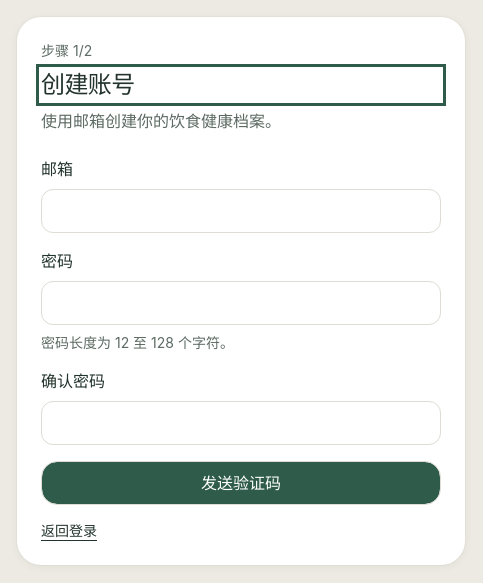
authentication forms › sends only the registration email and password before replacing the verification route
Type "mina@example.com" into the field labelled "邮箱".
click(241, 211); type("mina@example.com")  # box [41,189,441,233]
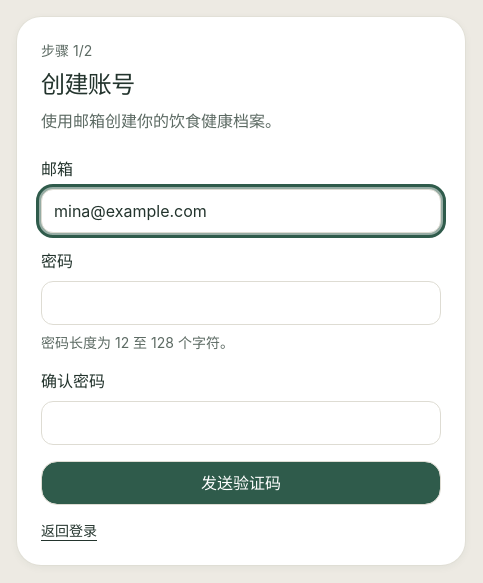
Type "correct horse battery" into the password field labelled "密码".
click(241, 303); type("correct horse battery")  # box [41,281,441,325]
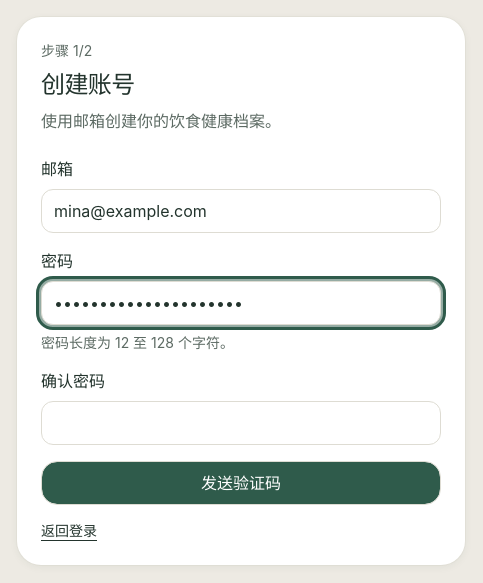
Type "correct horse battery" into the password field labelled "确认密码".
click(241, 423); type("correct horse battery")  # box [41,401,441,445]
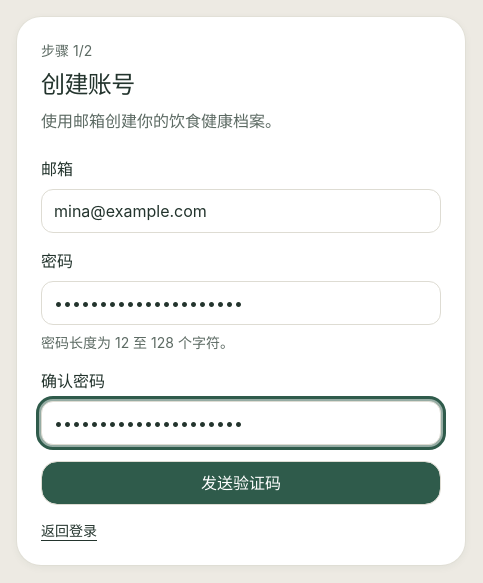
Click the button "发送验证码".
click(241, 483)  # box [41,461,441,505]
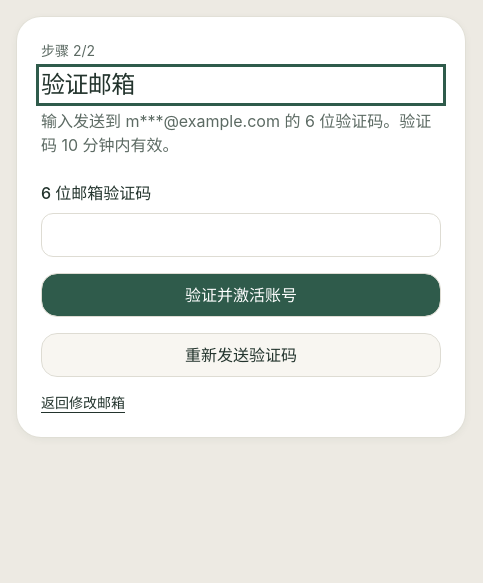
Result: the heading "验证邮箱" is shown at [41,70,135,99]
